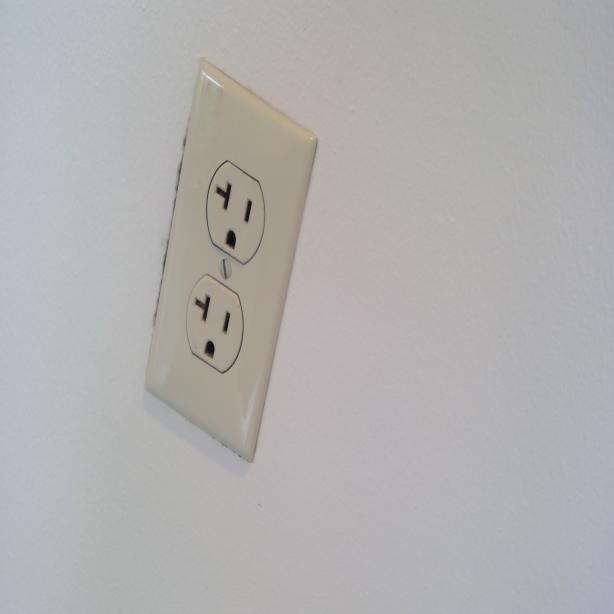typeb: (188, 278, 242, 381), (206, 162, 262, 251)
